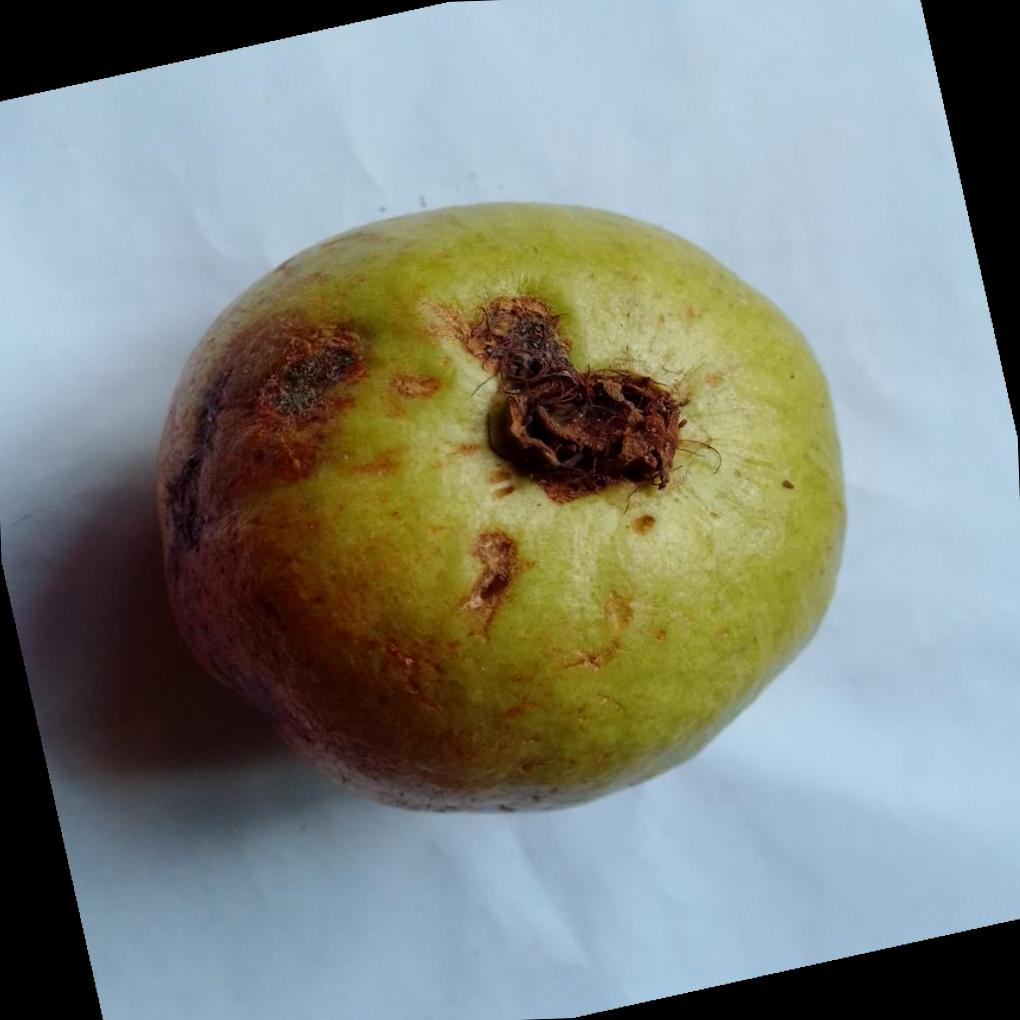FreshOrange: (152, 203, 849, 819)
